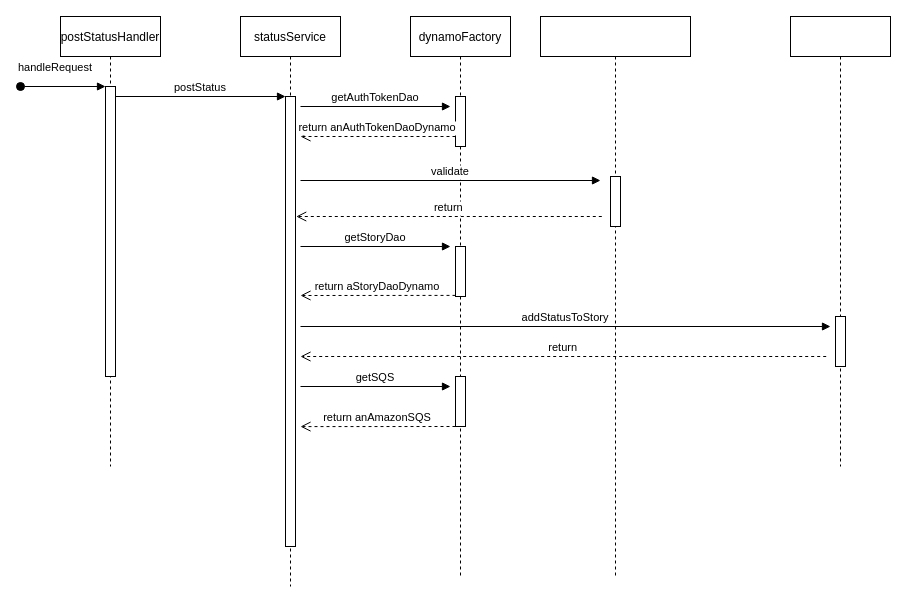
Some shapes in this 908 by 603 pixel diagram are drawn without their labels. The box of each missing label's shape, as (x1, y1, x2, y2) in pixels:
anAuthTokenDaoDynamo: (540, 16, 690, 576)
aStoryDaoDynamo: (790, 16, 890, 466)
